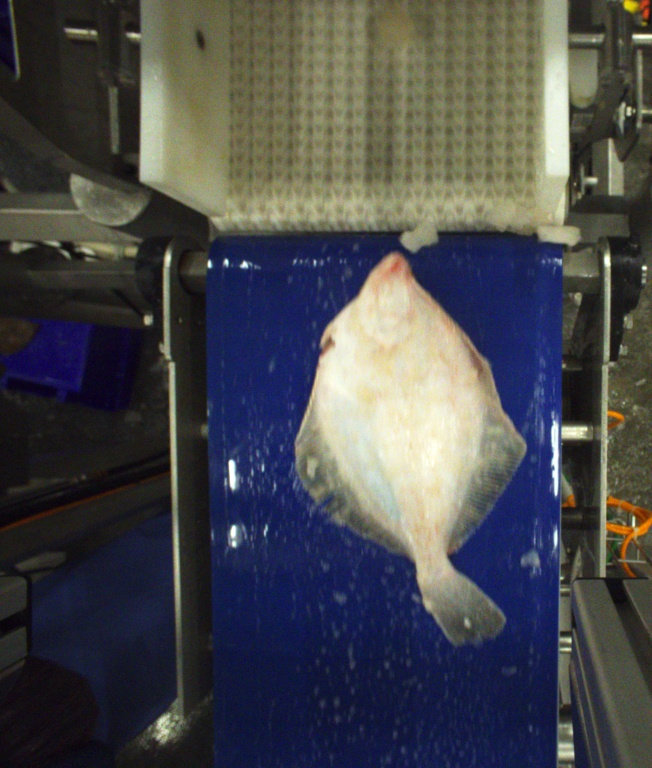PLE: (295, 252, 529, 644)
